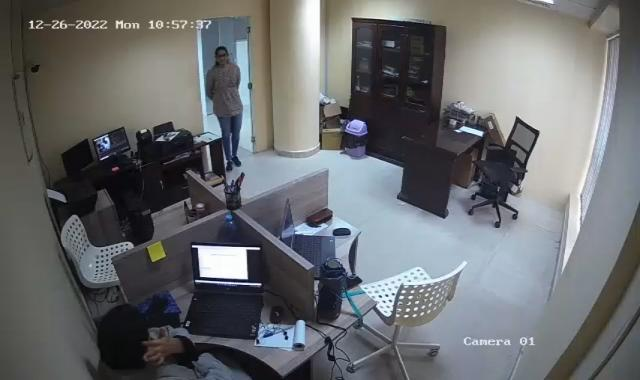no_hairnet: (93, 303, 145, 362), (211, 41, 232, 66)
